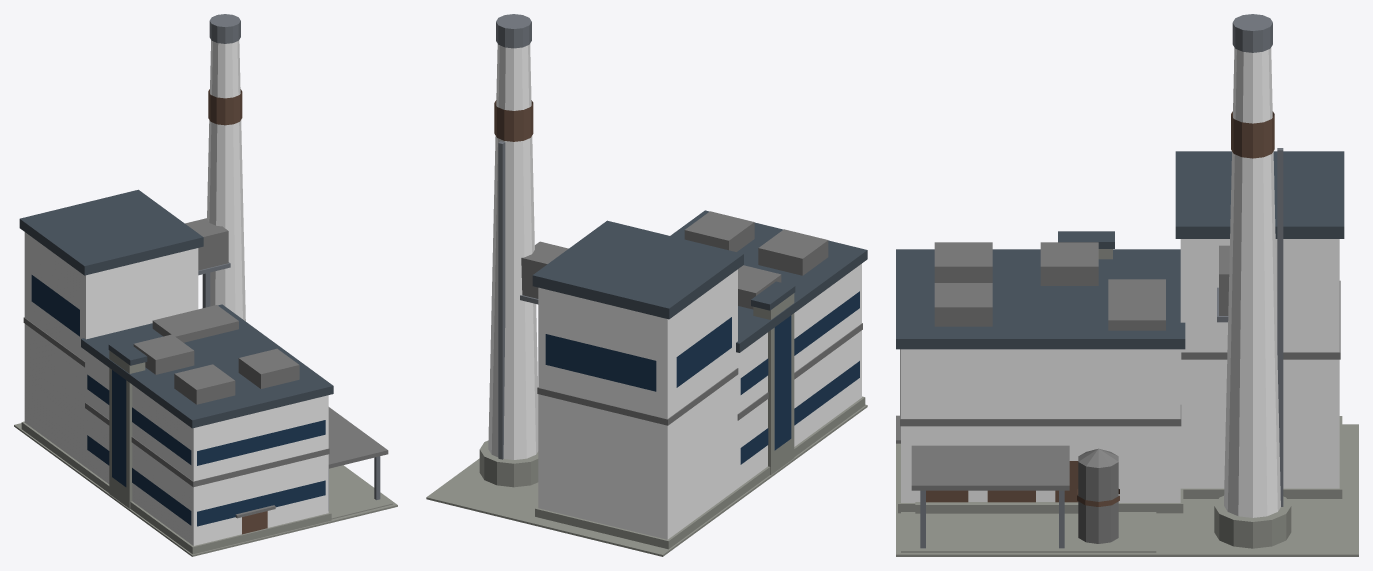
Rendered from mashup-boiler-mid-prebuilt.fbx.
The picture shows the model from 3 angles, left to right: view 1: azimuth 30°, elevation 25°; view 2: azimuth 150°, elevation 25°; view 3: azimuth 270°, elevation 25°; orthographic projection. The views are drawn at different scales.
Visible parts, largest first — view 1: a1056.MainBuilding; view 2: a1056.MainBuilding; view 3: a1056.MainBuilding.
Part boxes in pixels (x1,y1,x2,y2): a1056.MainBuilding: (14, 14, 397, 556); a1056.MainBuilding: (426, 14, 867, 556); a1056.MainBuilding: (896, 14, 1358, 556).
Size of the model in its own units: 32 by 58.6 by 48.
